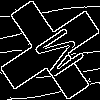M: (25, 25, 86, 86)
